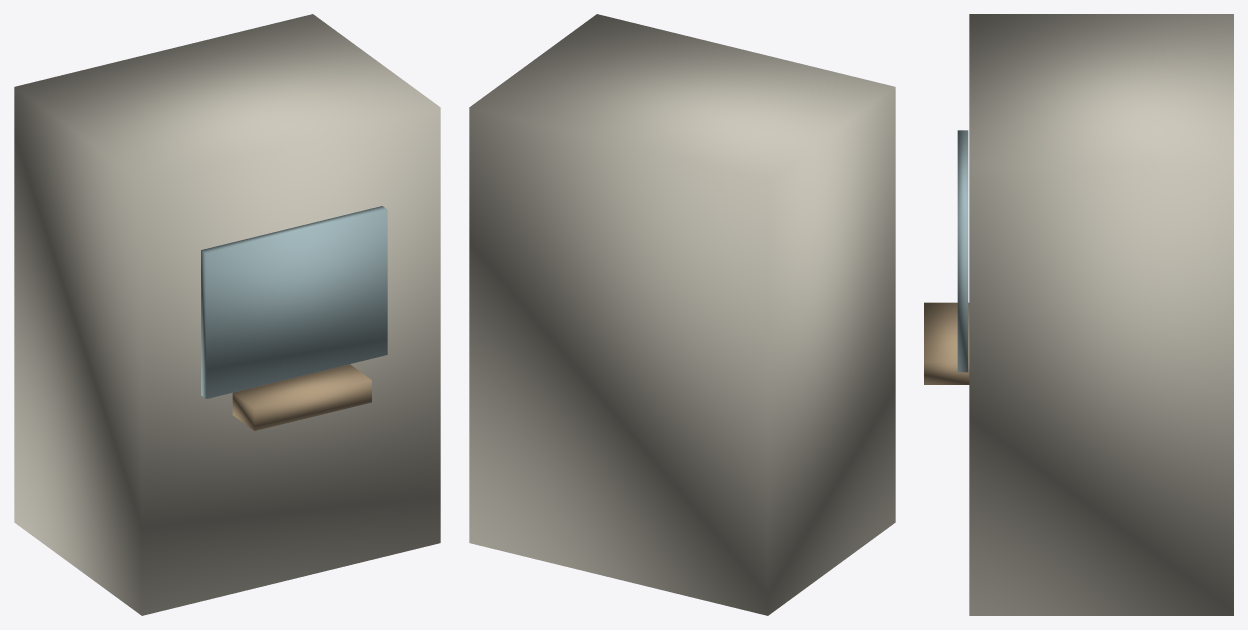
Rendered from ticket_booth__deep.glb.
3 views of the same model, side by side, from view 1: azimuth 30°, elevation 25°; view 2: azimuth 150°, elevation 25°; view 3: azimuth 270°, elevation 25° (orthographic). The views are drawn at different scales.
Visible parts, largest first — view 1: world; view 2: world; view 3: world.
Part boxes in pixels (left/top/right/bottom): world: left=14, top=14, right=440, bottom=615; world: left=469, top=14, right=895, bottom=615; world: left=924, top=14, right=1233, bottom=615.
Size of the model in its own units: 1.4 by 1.95 by 1.21.
